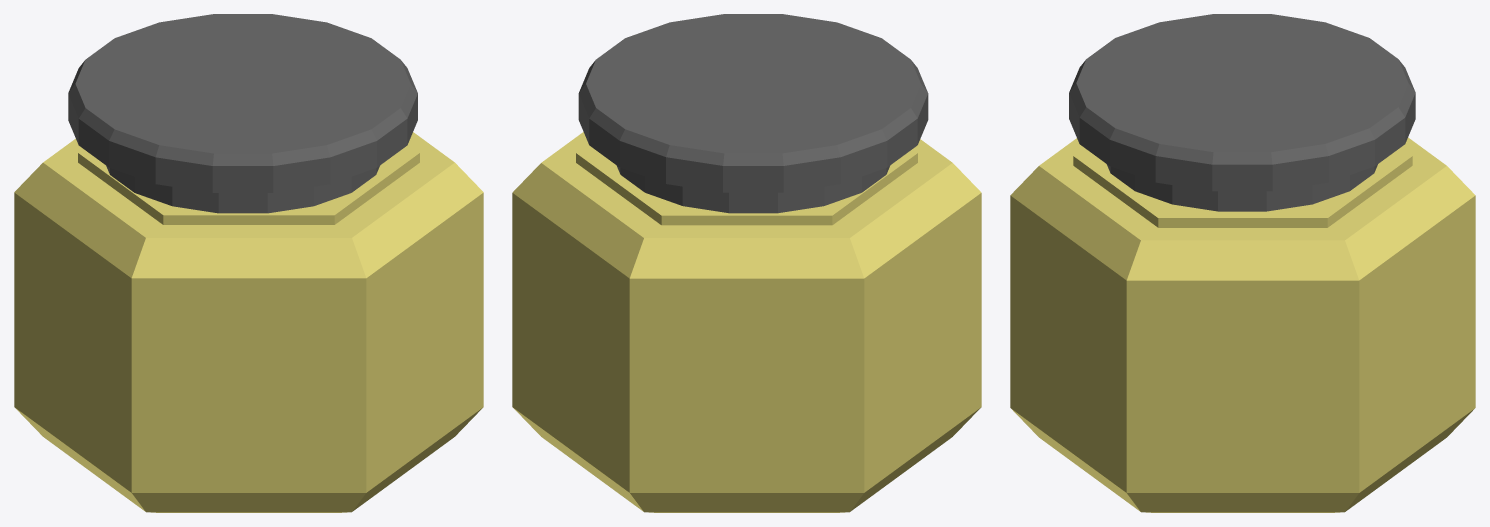
The model's file is Jar2.fbx.
3 renders of one model, left to right at view 1: azimuth 30°, elevation 25°; view 2: azimuth 150°, elevation 25°; view 3: azimuth 270°, elevation 25°, orthographic.
Visible parts, largest first — view 1: Cylinder.005, Cylinder.044; view 2: Cylinder.005, Cylinder.044; view 3: Cylinder.005, Cylinder.044.
Part boxes in pixels (x1,y1,x2,y2): Cylinder.005: (14,132,483,512); Cylinder.044: (68,14,417,213); Cylinder.005: (512,132,981,512); Cylinder.044: (578,14,928,213); Cylinder.005: (1010,137,1475,512); Cylinder.044: (1069,14,1415,211).
Size of the model in its own units: 8.38 by 8.29 by 9.68.
